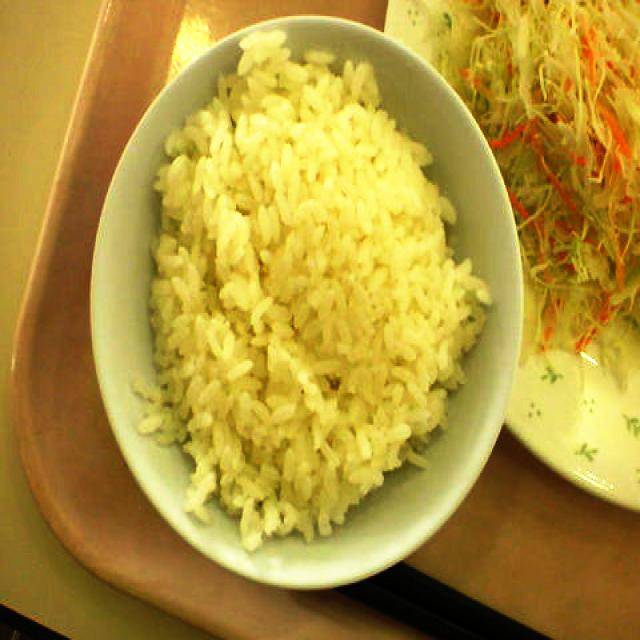rice: (131, 30, 489, 555)
